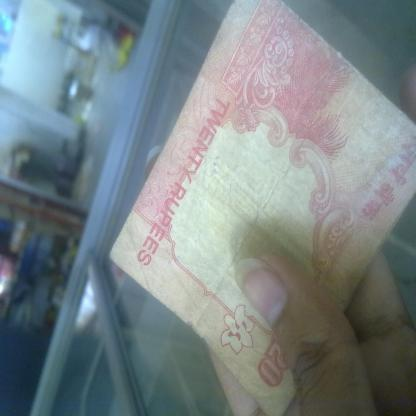Old20Back: (130, 1, 414, 382)
